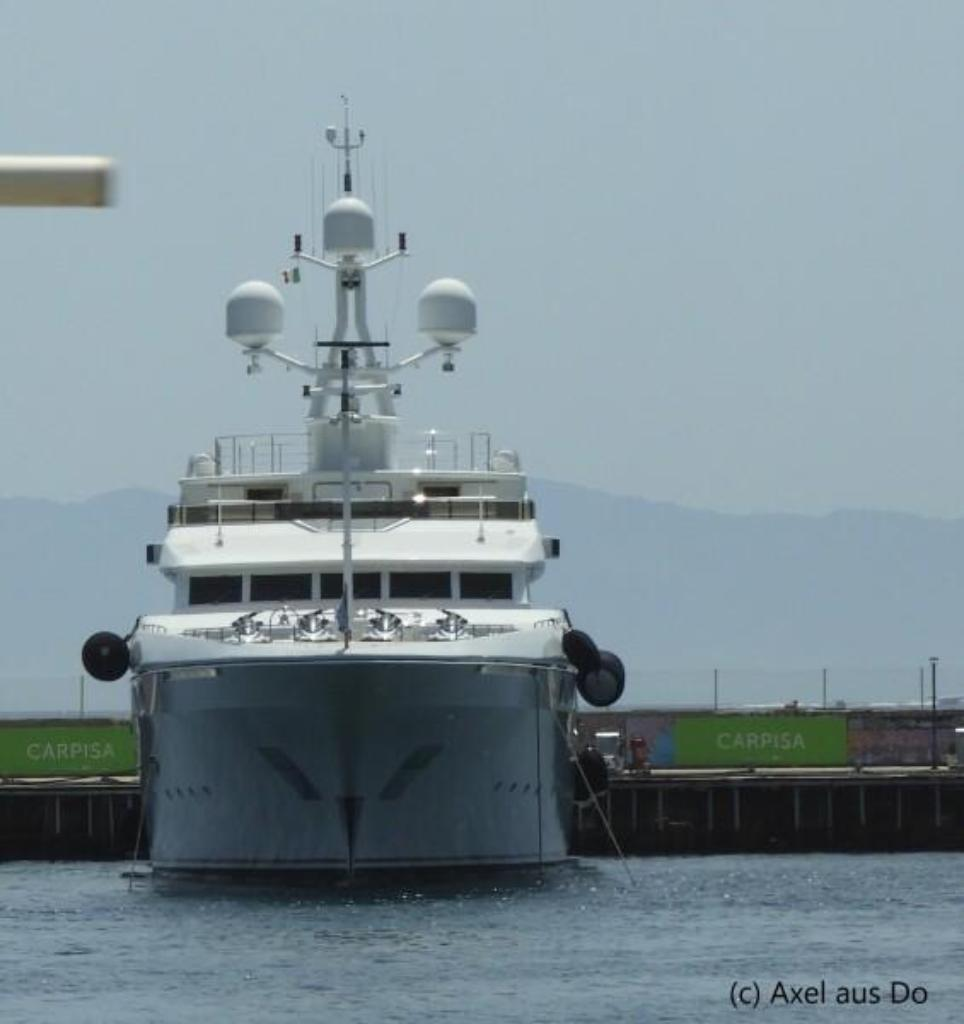PassengerShip: (77, 89, 631, 891)
